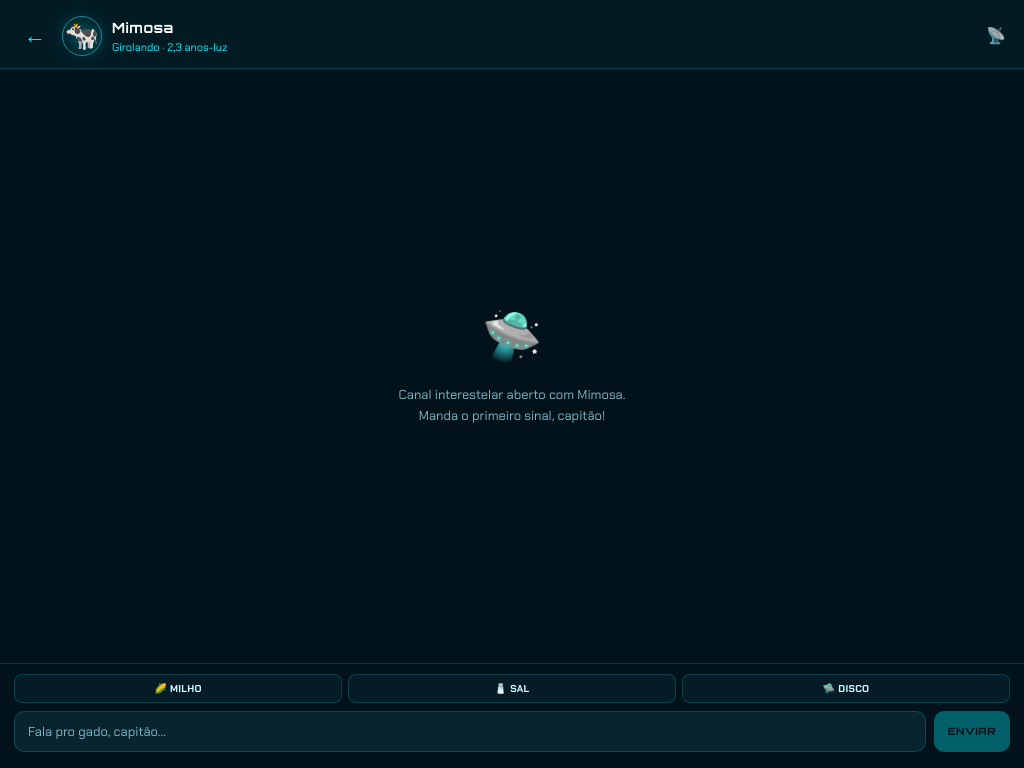
Test: ChatModal › mostra indicador 'está mugindo...' durante loading
In the field with placeholder "Fala pro gado, capitão...": (470, 731) x1=14 y1=710 x2=926 y2=752, type "Teste de loading"
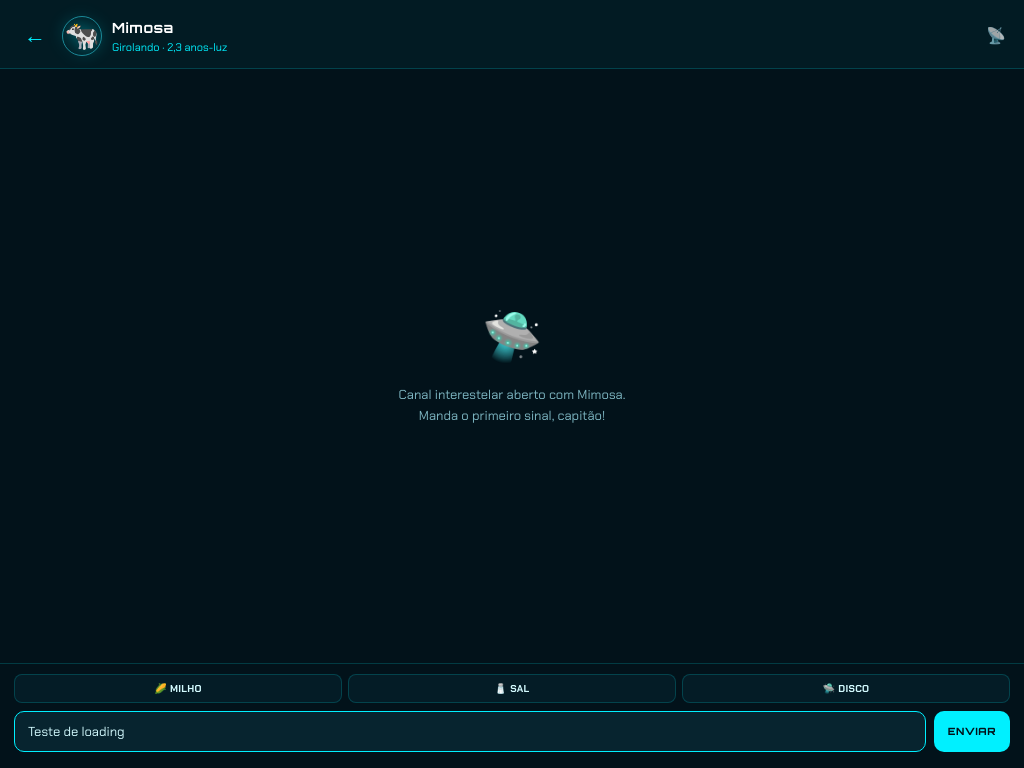
Click the button "ENVIAR": (972, 731) x1=934 y1=710 x2=1010 y2=752
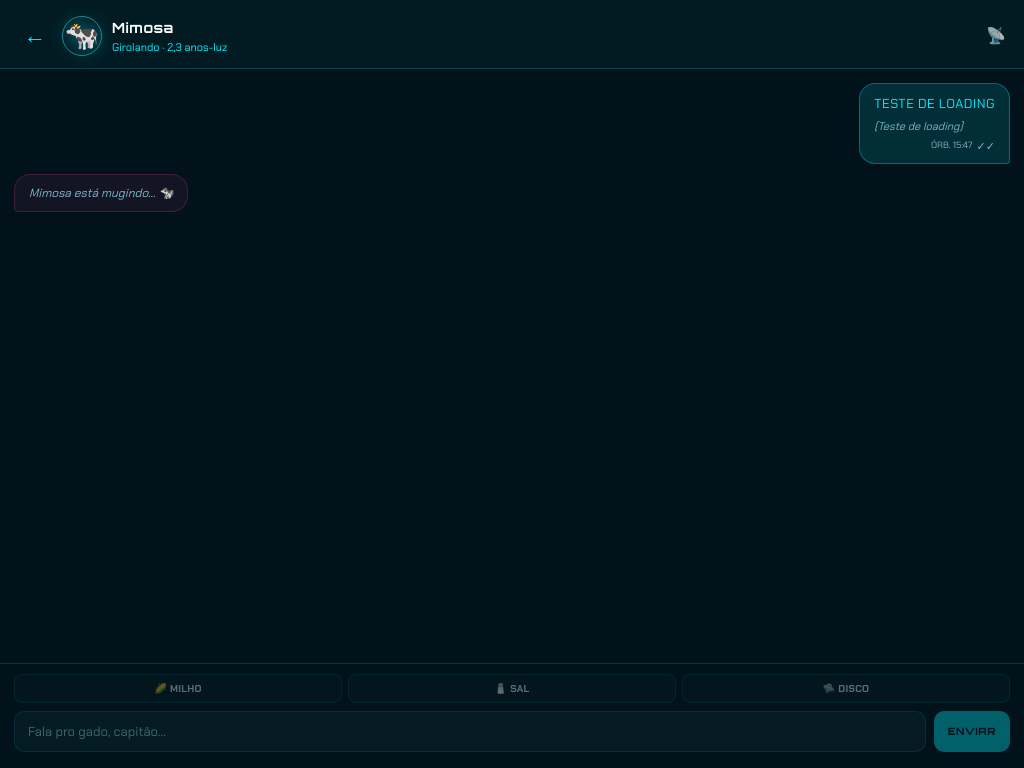
Now the text "Mimosa está mugindo... 🐄" is shown, box x1=14 y1=174 x2=188 y2=212
